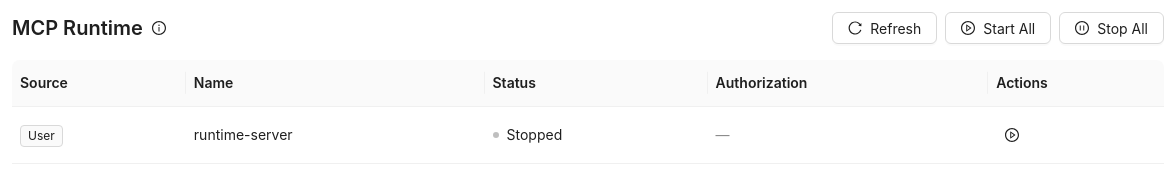
Test: McpRuntimeControls › keeps one MCP start pending while the global runtime input bridge owns prompting
Click the button titled "Start": (1012, 135) [996,119,1028,151]
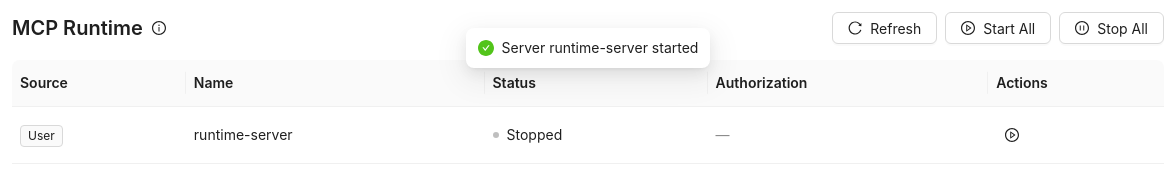
Result: the text "Server runtime-server started" is shown at [502,37,698,59]
